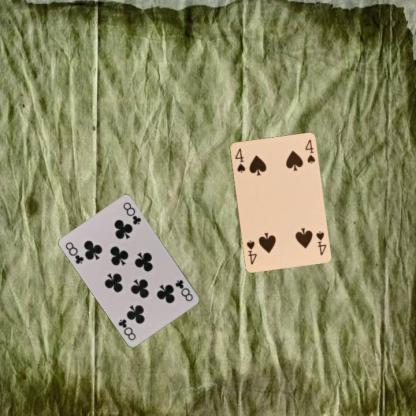4s: (313, 228, 328, 257), (232, 146, 246, 174)
8c: (63, 239, 86, 265), (172, 277, 194, 303)
